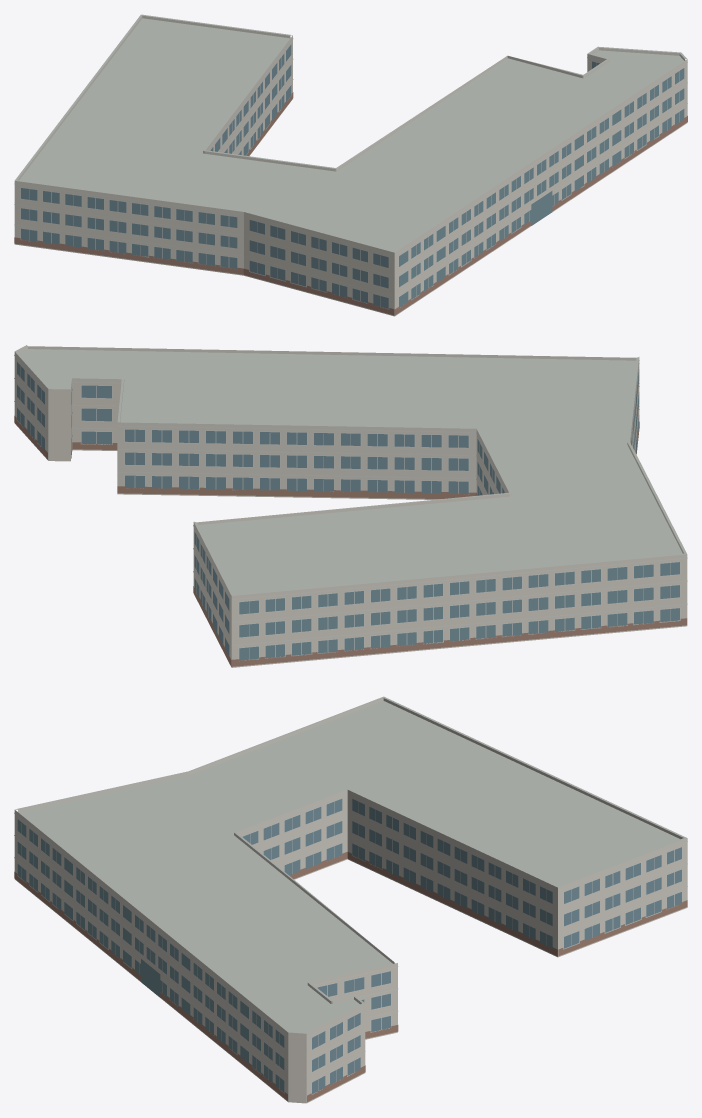
File: public-9d5b17d8-cddf-4101-aa7f-49691924d906.glb
The picture shows the model from 3 angles, top to bottom: view 1: azimuth 30°, elevation 25°; view 2: azimuth 150°, elevation 25°; view 3: azimuth 270°, elevation 25°; orthographic projection. The views are drawn at different scales.
Visible parts, largest first — view 1: public-9d5b17d8-cddf-4101-aa7f-49691924d906; view 2: public-9d5b17d8-cddf-4101-aa7f-49691924d906; view 3: public-9d5b17d8-cddf-4101-aa7f-49691924d906.
Part boxes in pixels (left/top/right/bottom): public-9d5b17d8-cddf-4101-aa7f-49691924d906: left=14, top=14, right=687, bottom=316; public-9d5b17d8-cddf-4101-aa7f-49691924d906: left=14, top=345, right=687, bottom=667; public-9d5b17d8-cddf-4101-aa7f-49691924d906: left=14, top=696, right=687, bottom=1103.
Bounding box in the file's own units: 94.92 × 9.15 × 80.1.
